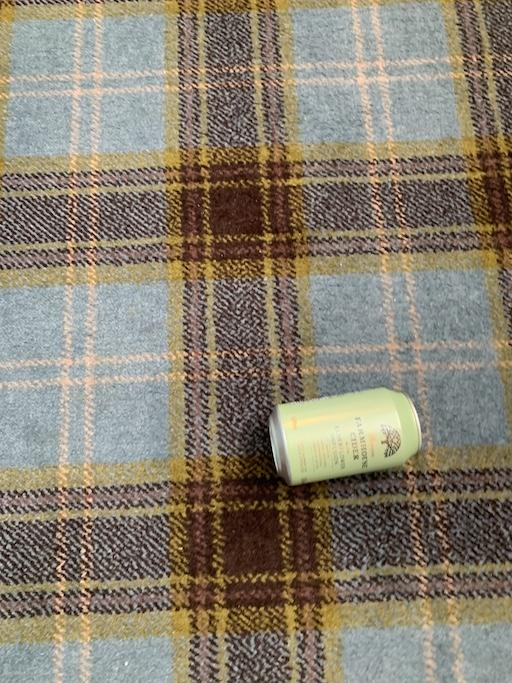Aluminum can: (235, 332, 503, 500)
